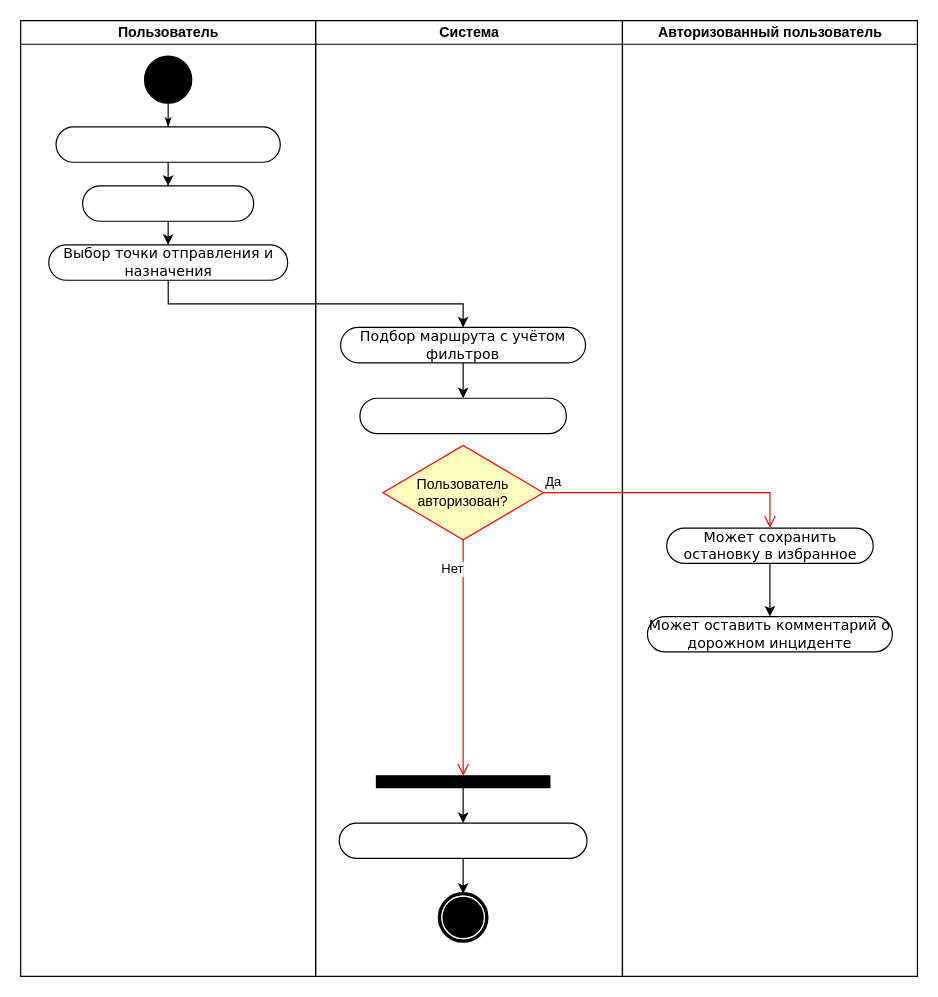
Some shapes in this 938 by 997 pixel diagram are drawn without their labels. Here are the shapes that lost their labels. From the top down, the box of each, then its label:
(55, 126, 280, 162): Просмотр главного экрана
(81, 185, 254, 221): Установка фильтров
(359, 397, 566, 434): Отображение маршрута
(338, 822, 587, 858): Отправляет уведомление о подъезжающем транспорте
